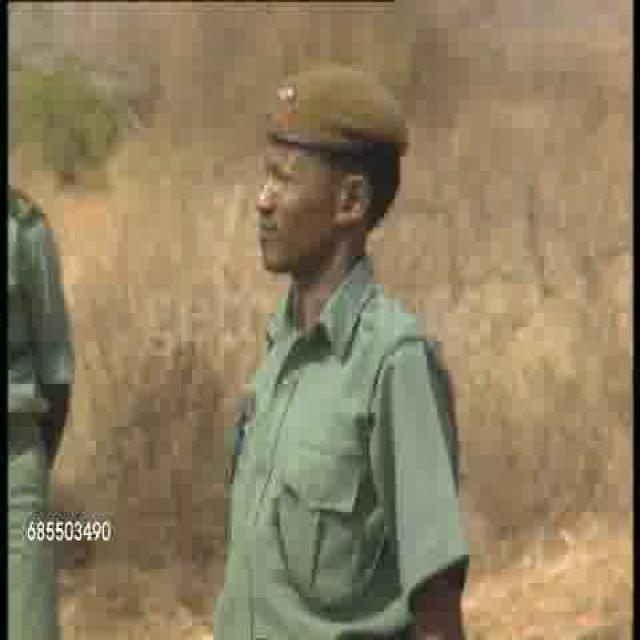Hunter: (189, 48, 459, 612)
